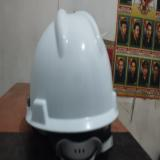Helmet: (26, 9, 119, 133)
